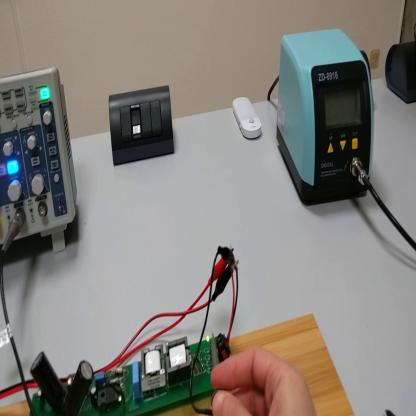hand: (212, 352, 316, 416)
high voltage board: (29, 262, 245, 415)
oscilloscope: (2, 67, 81, 253)
oscilloscope probe tip: (210, 333, 221, 416)
socket: (385, 42, 416, 106), (360, 50, 377, 112)
welder station: (278, 30, 377, 207)
working area: (7, 314, 356, 416)
